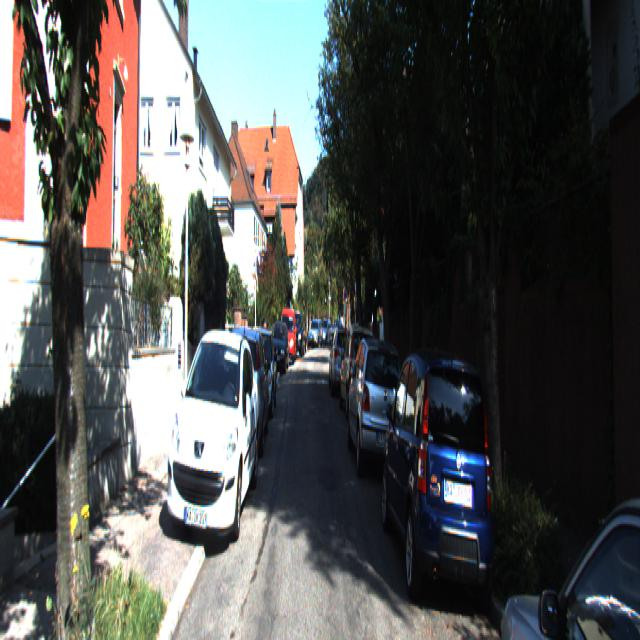Car: (379, 327, 499, 627), (502, 412, 640, 638), (164, 319, 261, 562), (347, 330, 410, 496), (222, 322, 270, 462), (338, 319, 378, 423), (240, 326, 278, 423), (328, 324, 358, 404), (270, 320, 290, 378), (279, 305, 297, 364), (288, 310, 304, 362)
